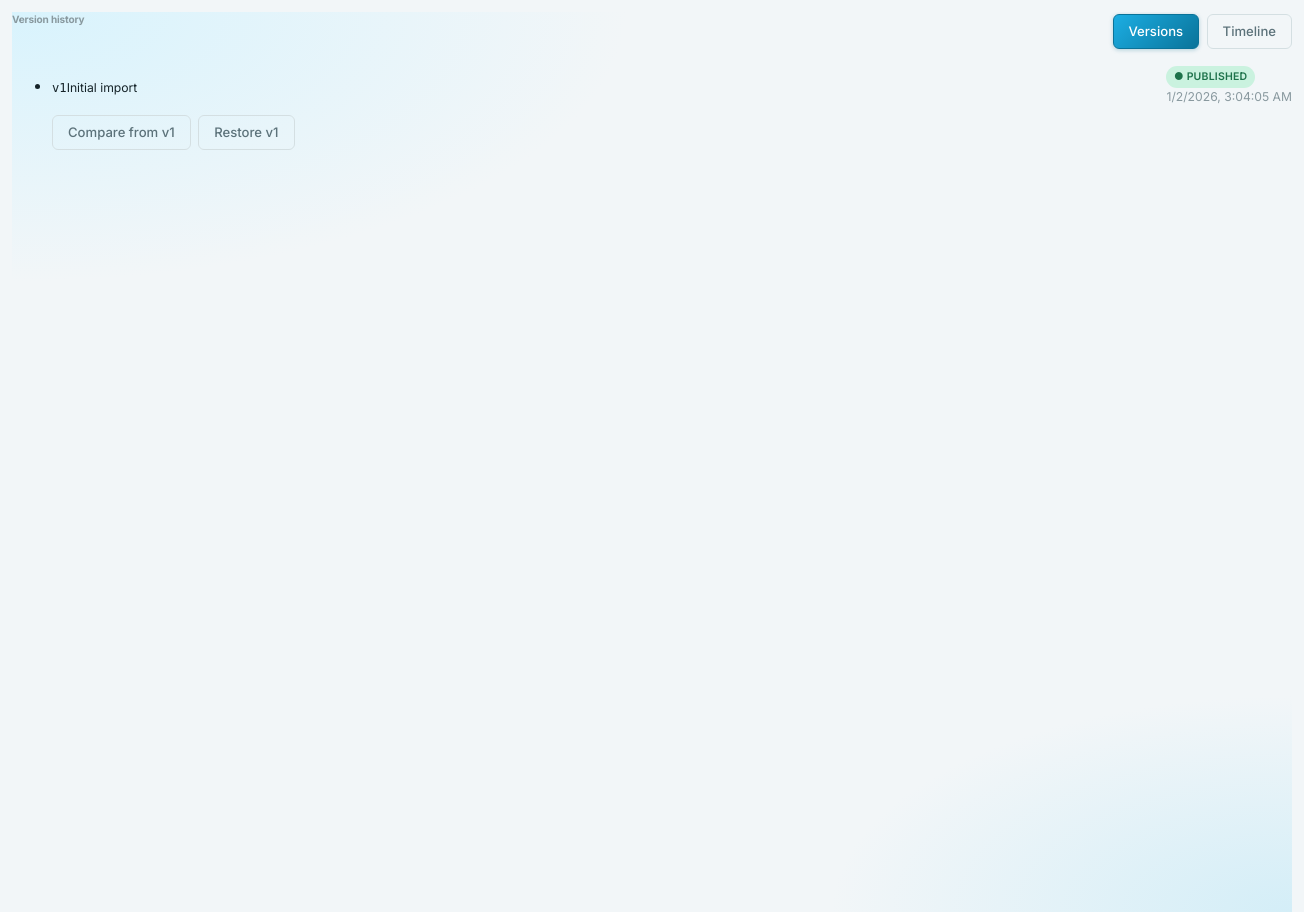
Test case: HistoryTab compare failures › surfaces a failed comparison instead of spinning forever
The width and height of the screenshot is (1304, 912).
What coordinates should you click on to do the following:
click the button with test id "history-compare-from-1"
I would click on:
 (121, 132)
Its box is [52,115,191,150].
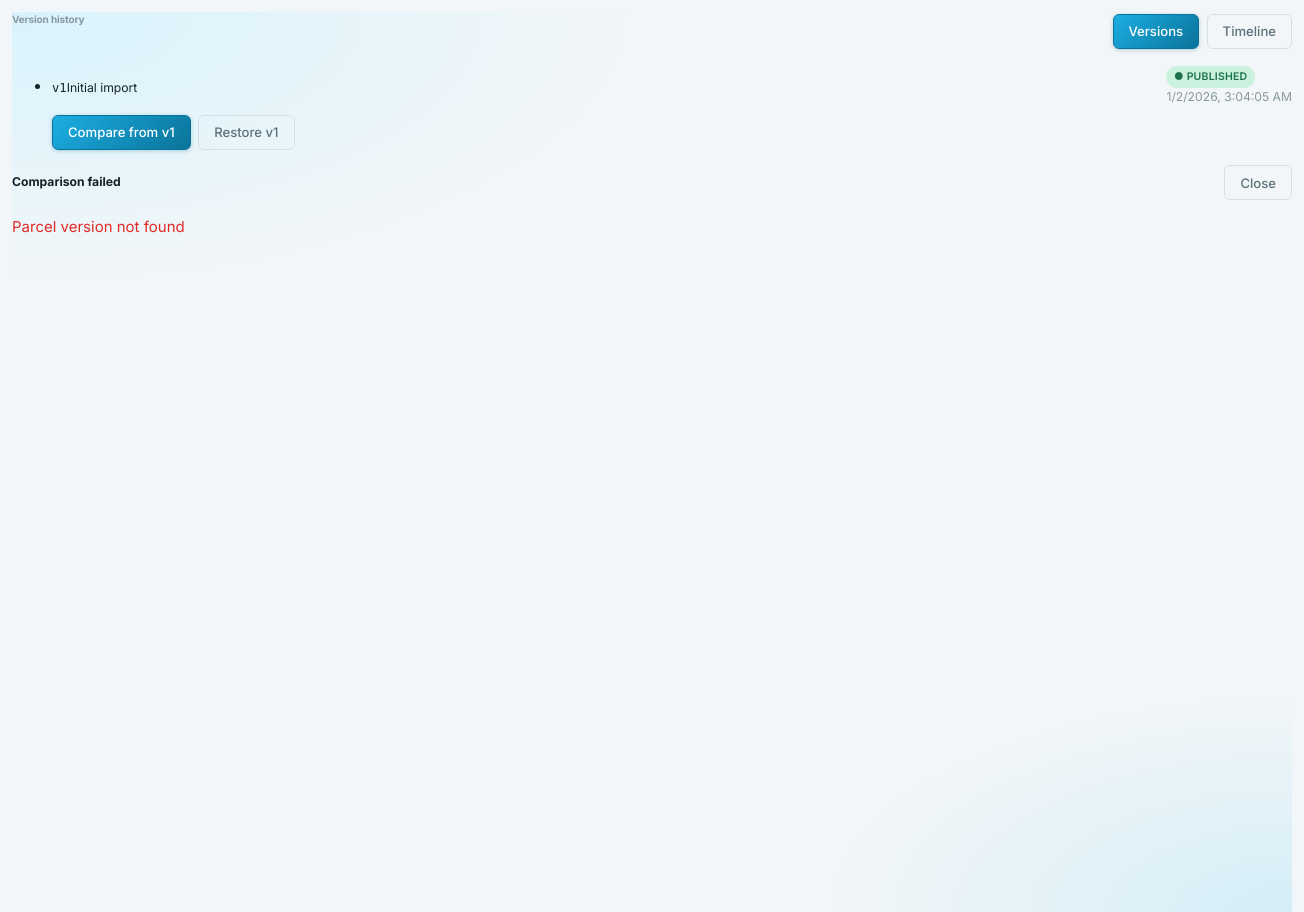
Now the text with test id "history-compare-error" reads "Parcel version not found", box [12,217,185,236]
Now the element with test id "history-compare-panel" shows "Comparison failed", box [12,174,121,189]
